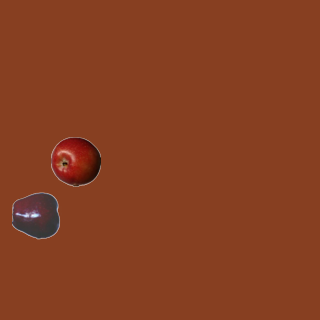Apple Braeburn: (50, 136, 100, 186)
Apple Red Delicious: (11, 190, 61, 240)
